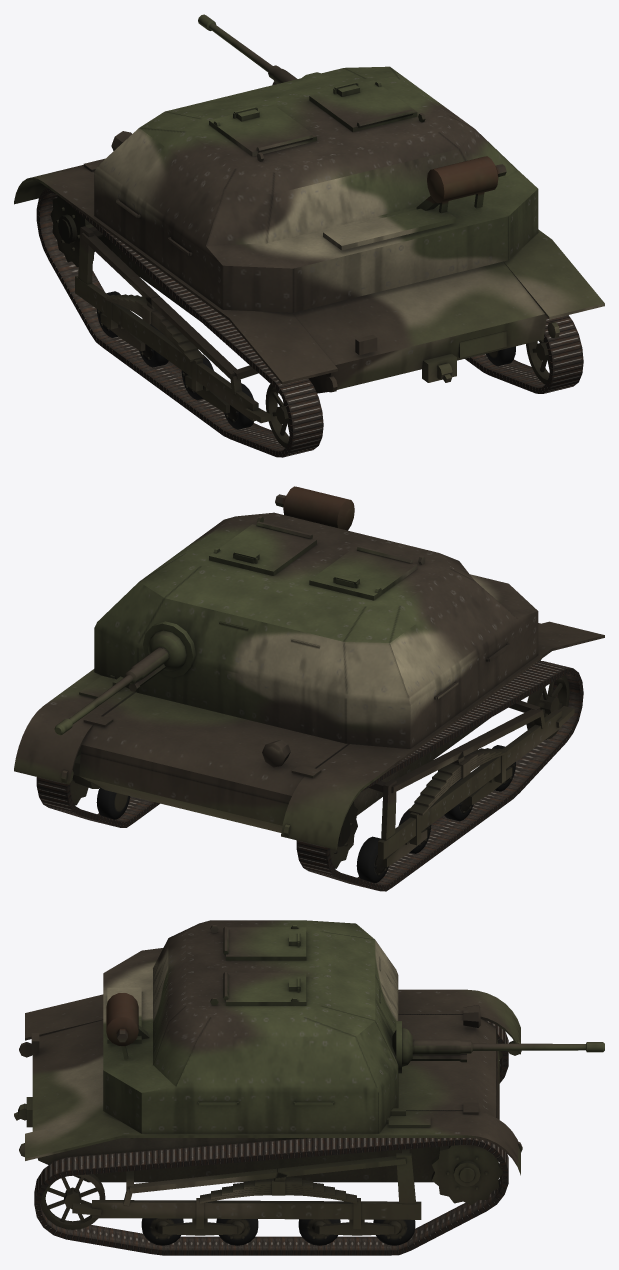
The model's file is TKS20.fbx.
3 views of the same model, one above another, from view 1: azimuth 30°, elevation 25°; view 2: azimuth 150°, elevation 25°; view 3: azimuth 270°, elevation 25° (orthographic). The views are drawn at different scales.
Visible parts, largest first — view 1: Chassis, Chenille_Gauche_01, Chenille_Droite_01, Roue_G1, Canon_01, Roue_G6, Roue_D6; view 2: Chassis, Chenille_Gauche_01, Chenille_Droite_01, Tourelle_01, Canon_01, Roue_G6, Roue_G2, Roue_G1, Roue_D2; view 3: Chassis, Chenille_Droite_01, Roue_D1, Canon_01, Roue_D6, Roue_D5, Roue_D4, Roue_D3, Roue_D2, Tourelle_01.
Boxes of the visible parts, x1,y1,x2,y2 form: Chassis: [14, 66, 604, 423]; Chenille_Gauche_01: [36, 188, 323, 457]; Chenille_Droite_01: [465, 315, 583, 393]; Roue_G1: [50, 195, 94, 266]; Canon_01: [198, 14, 297, 83]; Roue_G6: [265, 384, 289, 447]; Roue_D6: [526, 339, 549, 384]; Chassis: [14, 486, 604, 867]; Chenille_Gauche_01: [296, 661, 583, 891]; Chenille_Droite_01: [36, 777, 159, 827]; Tourelle_01: [143, 621, 195, 677]; Canon_01: [54, 647, 168, 735]; Roue_G6: [526, 675, 569, 739]; Roue_G2: [356, 836, 388, 882]; Roue_G1: [330, 801, 357, 868]; Roue_D2: [96, 787, 130, 819]; Chassis: [14, 920, 522, 1235]; Chenille_Droite_01: [34, 1138, 508, 1255]; Roue_D1: [431, 1145, 503, 1205]; Canon_01: [412, 1039, 604, 1054]; Roue_D6: [40, 1171, 105, 1229]; Roue_D5: [141, 1218, 183, 1245]; Roue_D4: [216, 1218, 258, 1245]; Roue_D3: [298, 1219, 340, 1245]; Roue_D2: [373, 1219, 415, 1245]; Tourelle_01: [392, 1021, 412, 1073].
Bounding box in the file's own units: 180 × 309 × 133.
3 materials, 3 textured.
